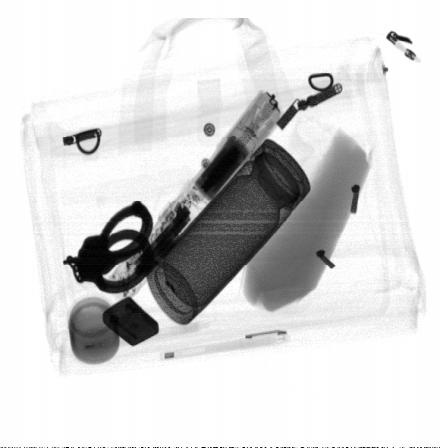Baton: (106, 92, 283, 301)
HandCuffs: (60, 199, 154, 297)
Lighter: (103, 295, 160, 348)
